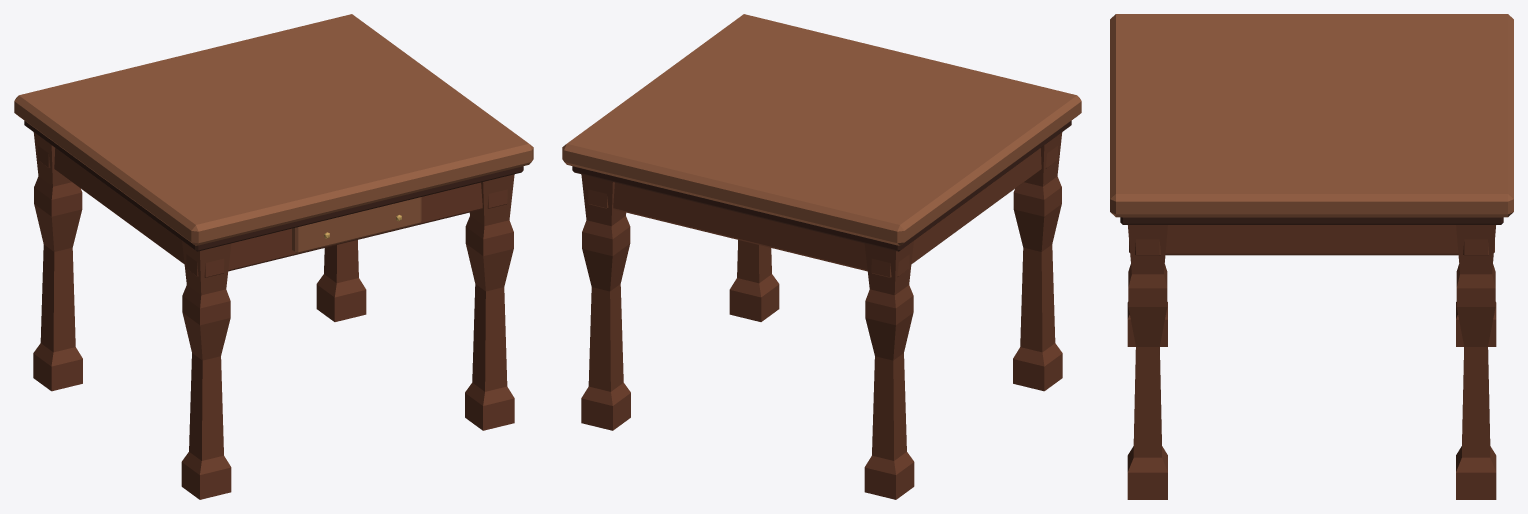
The model's file is table_09.glb.
3 views of the same model, side by side, from view 1: azimuth 30°, elevation 25°; view 2: azimuth 150°, elevation 25°; view 3: azimuth 270°, elevation 25° (orthographic). The views are drawn at different scales.
Visible parts, largest first — view 1: Top, Leg_0_0, Leg_1_0, Leg_0_1, Aprons, FrontDrawer, Leg_1_1, TopUndercut; view 2: Top, Aprons, Leg_0_1, Leg_1_1, Leg_0_0, Leg_1_0, TopUndercut; view 3: Top, Aprons, Leg_1_0, Leg_1_1, TopUndercut.
Part boxes in pixels (box(x1,y1,x2,y2)): Top: box(14, 14, 533, 245); Leg_0_0: box(181, 241, 231, 499); Leg_1_0: box(465, 174, 514, 430); Leg_0_1: box(33, 132, 82, 391); Aprons: box(38, 146, 507, 277); FrontDrawer: box(292, 197, 421, 253); Leg_1_1: box(316, 240, 366, 321); TopUndercut: box(24, 121, 523, 251); Top: box(562, 14, 1081, 245); Aprons: box(588, 146, 1057, 277); Leg_0_1: box(864, 241, 914, 499); Leg_1_1: box(581, 174, 630, 430); Leg_0_0: box(1013, 132, 1062, 391); Leg_1_0: box(729, 240, 779, 321); TopUndercut: box(572, 121, 1071, 251); Top: box(1110, 14, 1513, 217); Aprons: box(1129, 225, 1494, 255); Leg_1_0: box(1127, 225, 1167, 499); Leg_1_1: box(1456, 225, 1496, 499); TopUndercut: box(1120, 217, 1503, 224).
Bounding box in the file's own units: 0.65 × 0.51 × 0.6.
